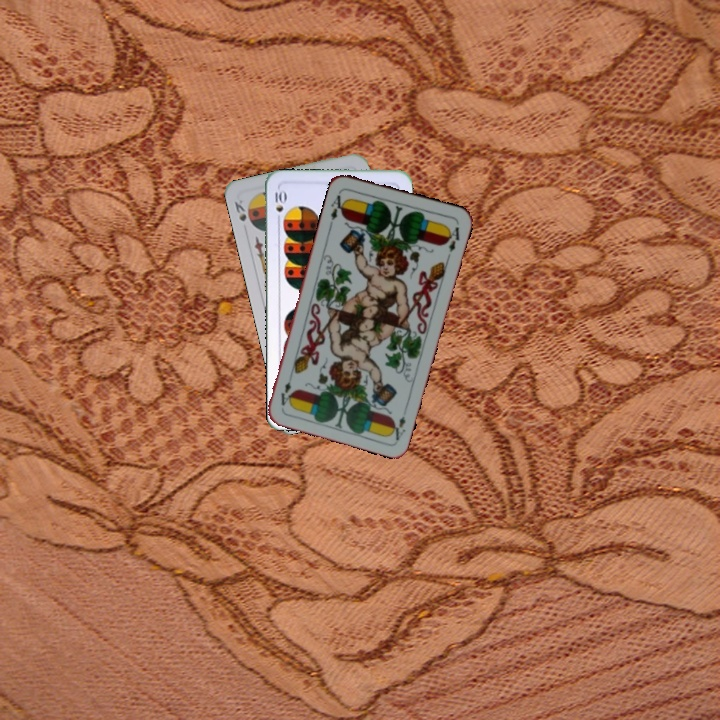EA: (387, 403, 410, 443), (326, 188, 349, 223)
S10: (271, 185, 287, 225)
SK: (230, 196, 255, 228)
